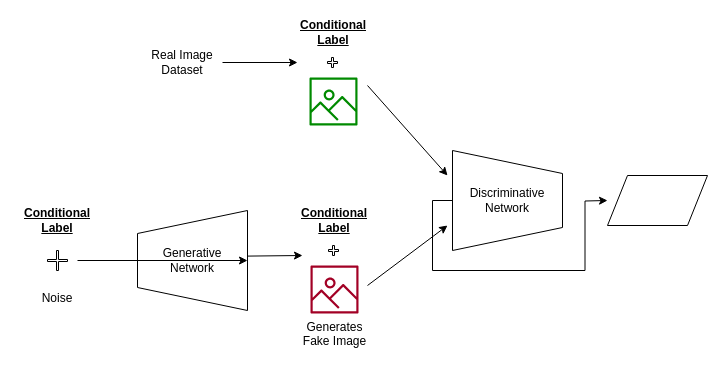
This 725x366 diagram has some shape labels left out. Here are the shapes that lost their labels. From the top down, the centre of each, then its label:
At (333,101): "Real Image".
At (657,200): "Real / Fake Score".
